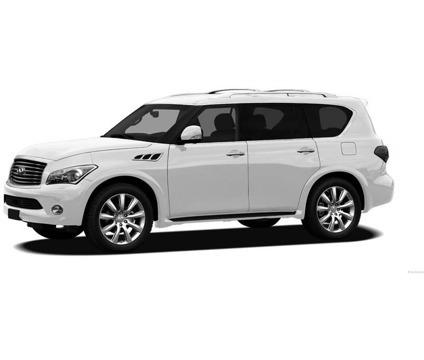car: (1, 87, 398, 257)
